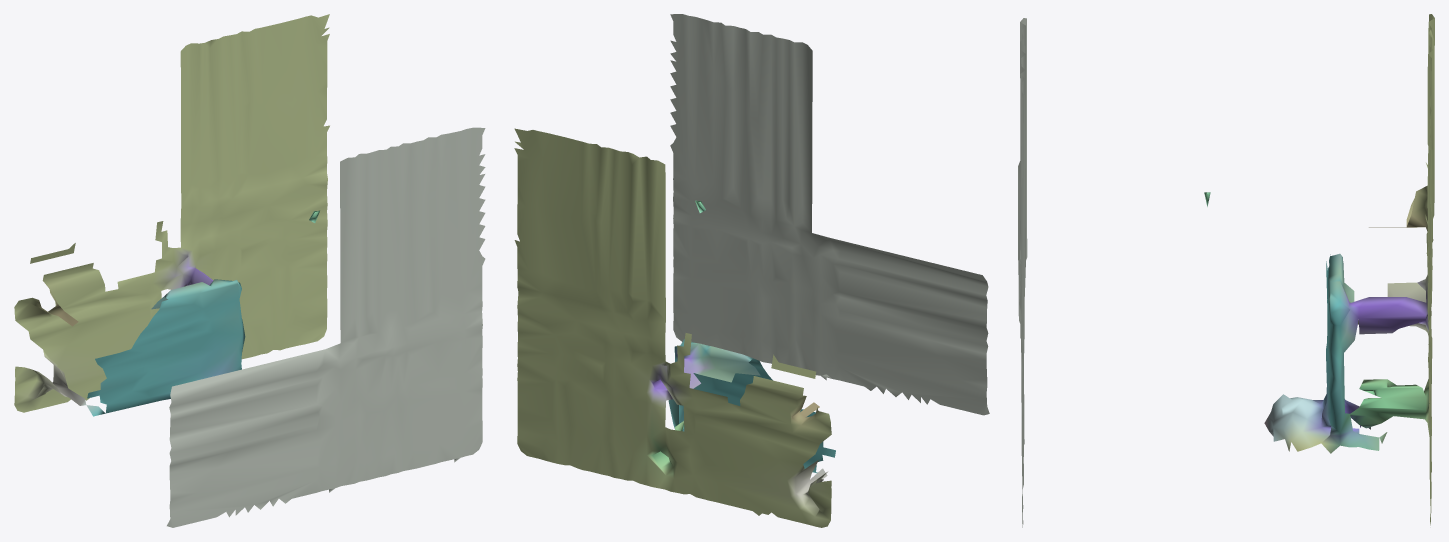
The model's file is tile_7e4ccbd5fe0e_0_-1_0_0_lod2.glb.
The picture shows the model from 3 angles, left to right: view 1: azimuth 30°, elevation 25°; view 2: azimuth 150°, elevation 25°; view 3: azimuth 270°, elevation 25°; orthographic projection. The views are drawn at different scales.
Size of the model in its own units: 4.08 by 4.04 by 3.52.
